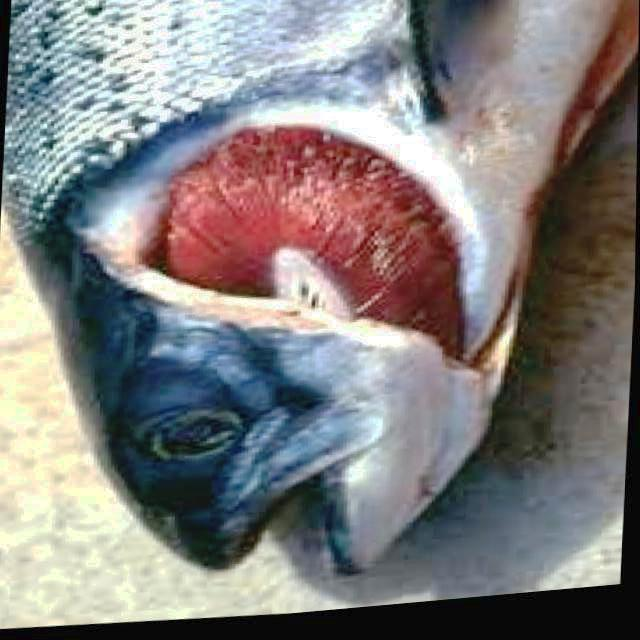Flavobacterium -Bacterial Gill Disease-: (5, 0, 636, 571)
